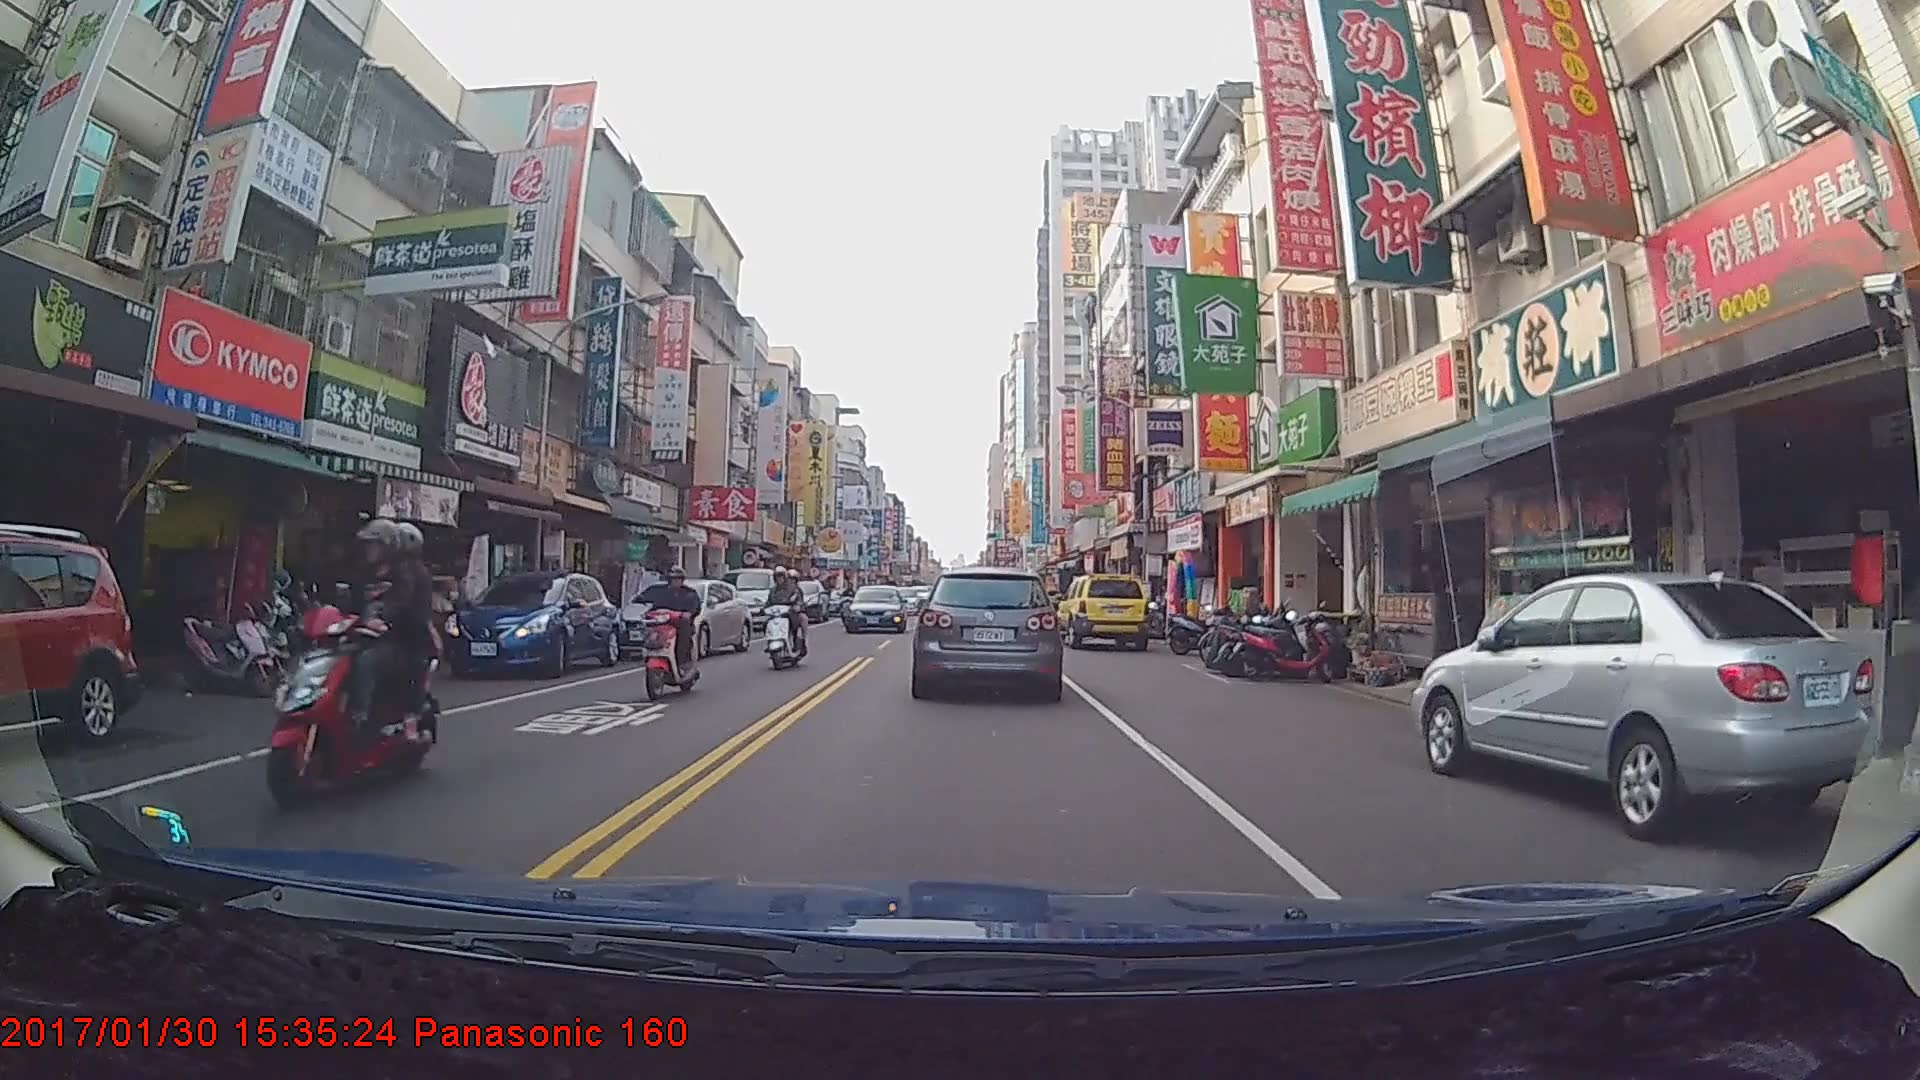rider: (261, 514, 448, 808), (637, 564, 705, 707), (759, 566, 816, 668)
vehicle: (1409, 571, 1876, 838), (0, 530, 138, 754), (438, 569, 622, 679), (912, 567, 1060, 700), (610, 577, 751, 660), (1056, 571, 1150, 649), (716, 565, 782, 629), (841, 583, 908, 633)
